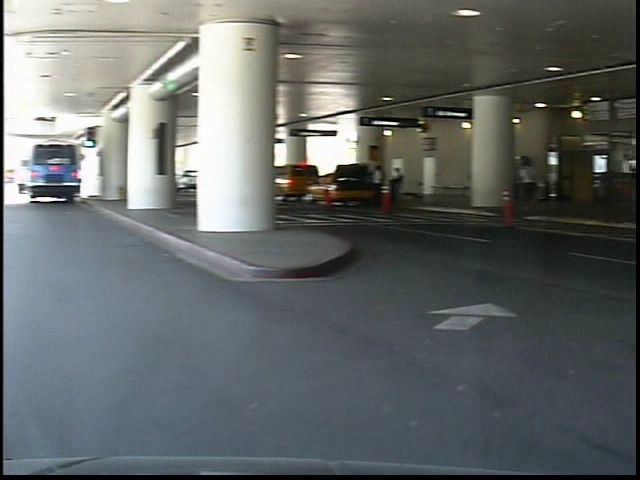person: (520, 155, 546, 211)
